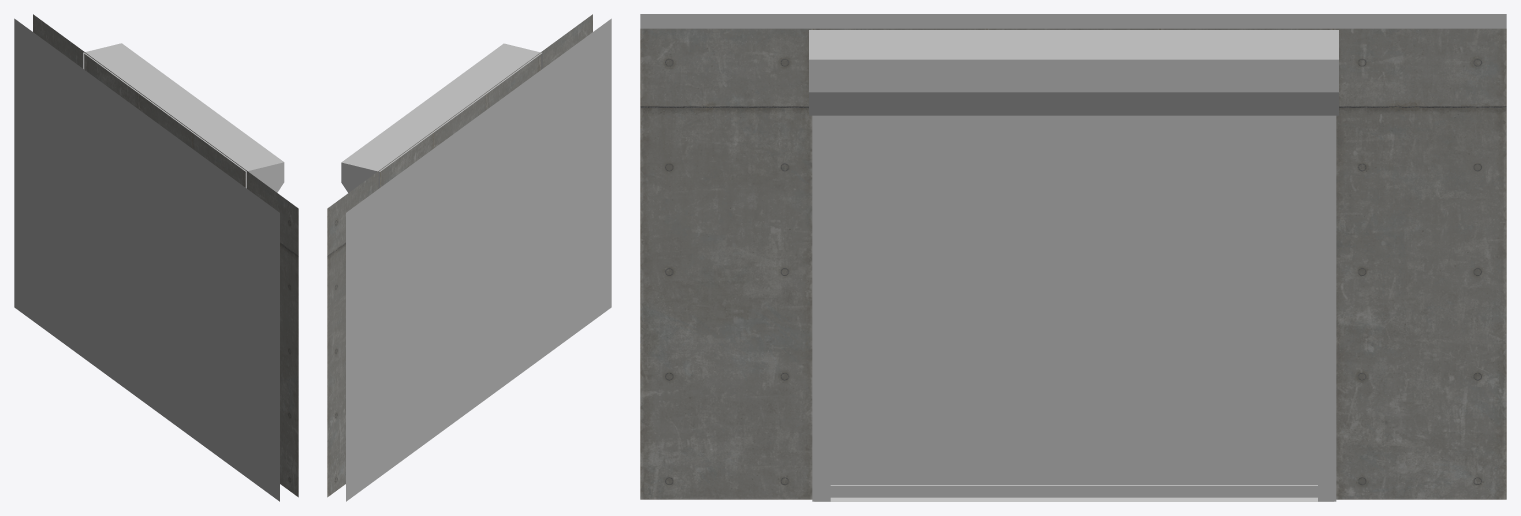
File: AE_Wall_Roller_Shutter_03.fbx
3 renders of one model, left to right at view 1: azimuth 30°, elevation 25°; view 2: azimuth 150°, elevation 25°; view 3: azimuth 270°, elevation 25°, orthographic. The views are drawn at different scales.
Visible parts, largest first — view 1: AE_Wall_Roller_Shutter_03; view 2: AE_Wall_Roller_Shutter_03; view 3: AE_Wall_Roller_Shutter_03.
Part boxes in pixels (x1=…): AE_Wall_Roller_Shutter_03: x1=14, y1=14, x2=298, y2=501; AE_Wall_Roller_Shutter_03: x1=327, y1=14, x2=611, y2=501; AE_Wall_Roller_Shutter_03: x1=640, y1=14, x2=1506, y2=501.
Bounding box in the file's own units: 60.79 × 300 × 500.
